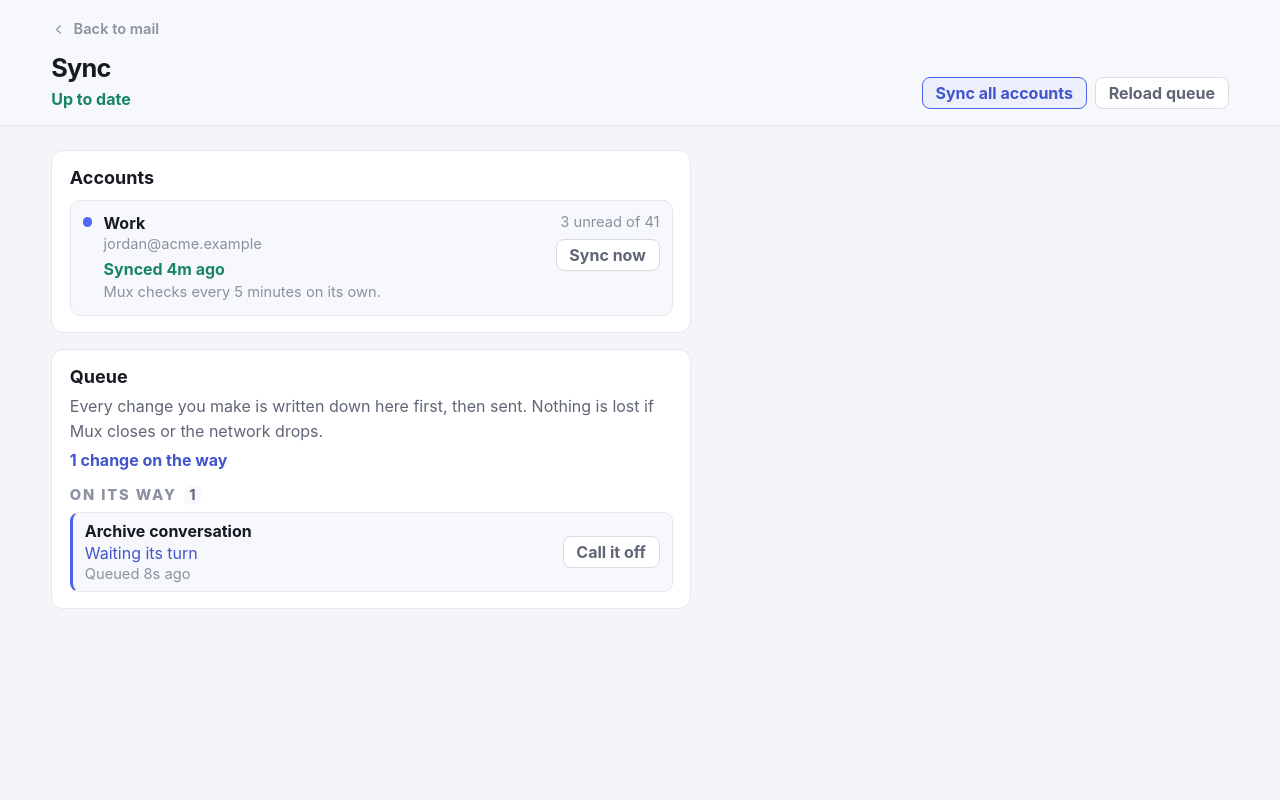
Test: sync status screen › work the worker already claimed says so instead of silently doing nothing
The image size is (1280, 800).
Click the button "Call it off". click: (611, 552)
box: [562,536,660,568]
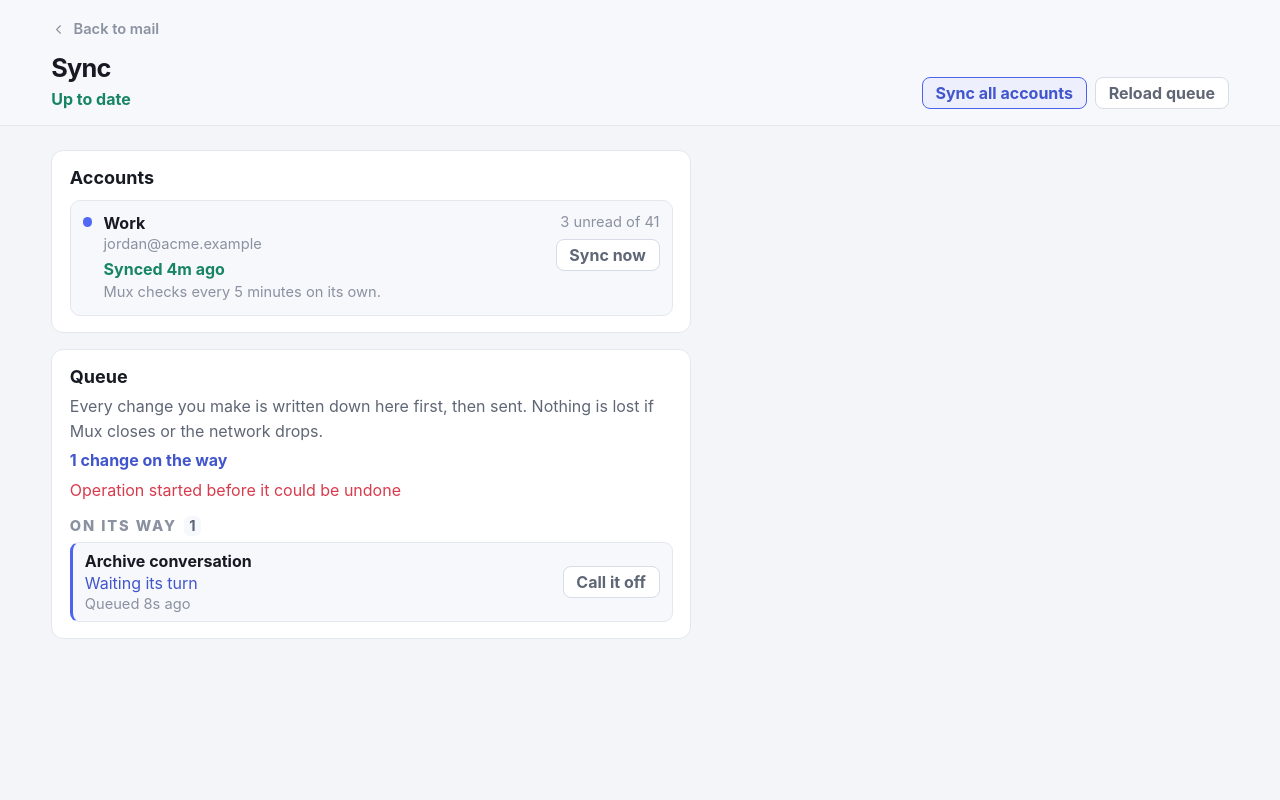
expect the message with test id "sync-error" reads "Operation started before it could be undone": met, box [70,480,401,500]
